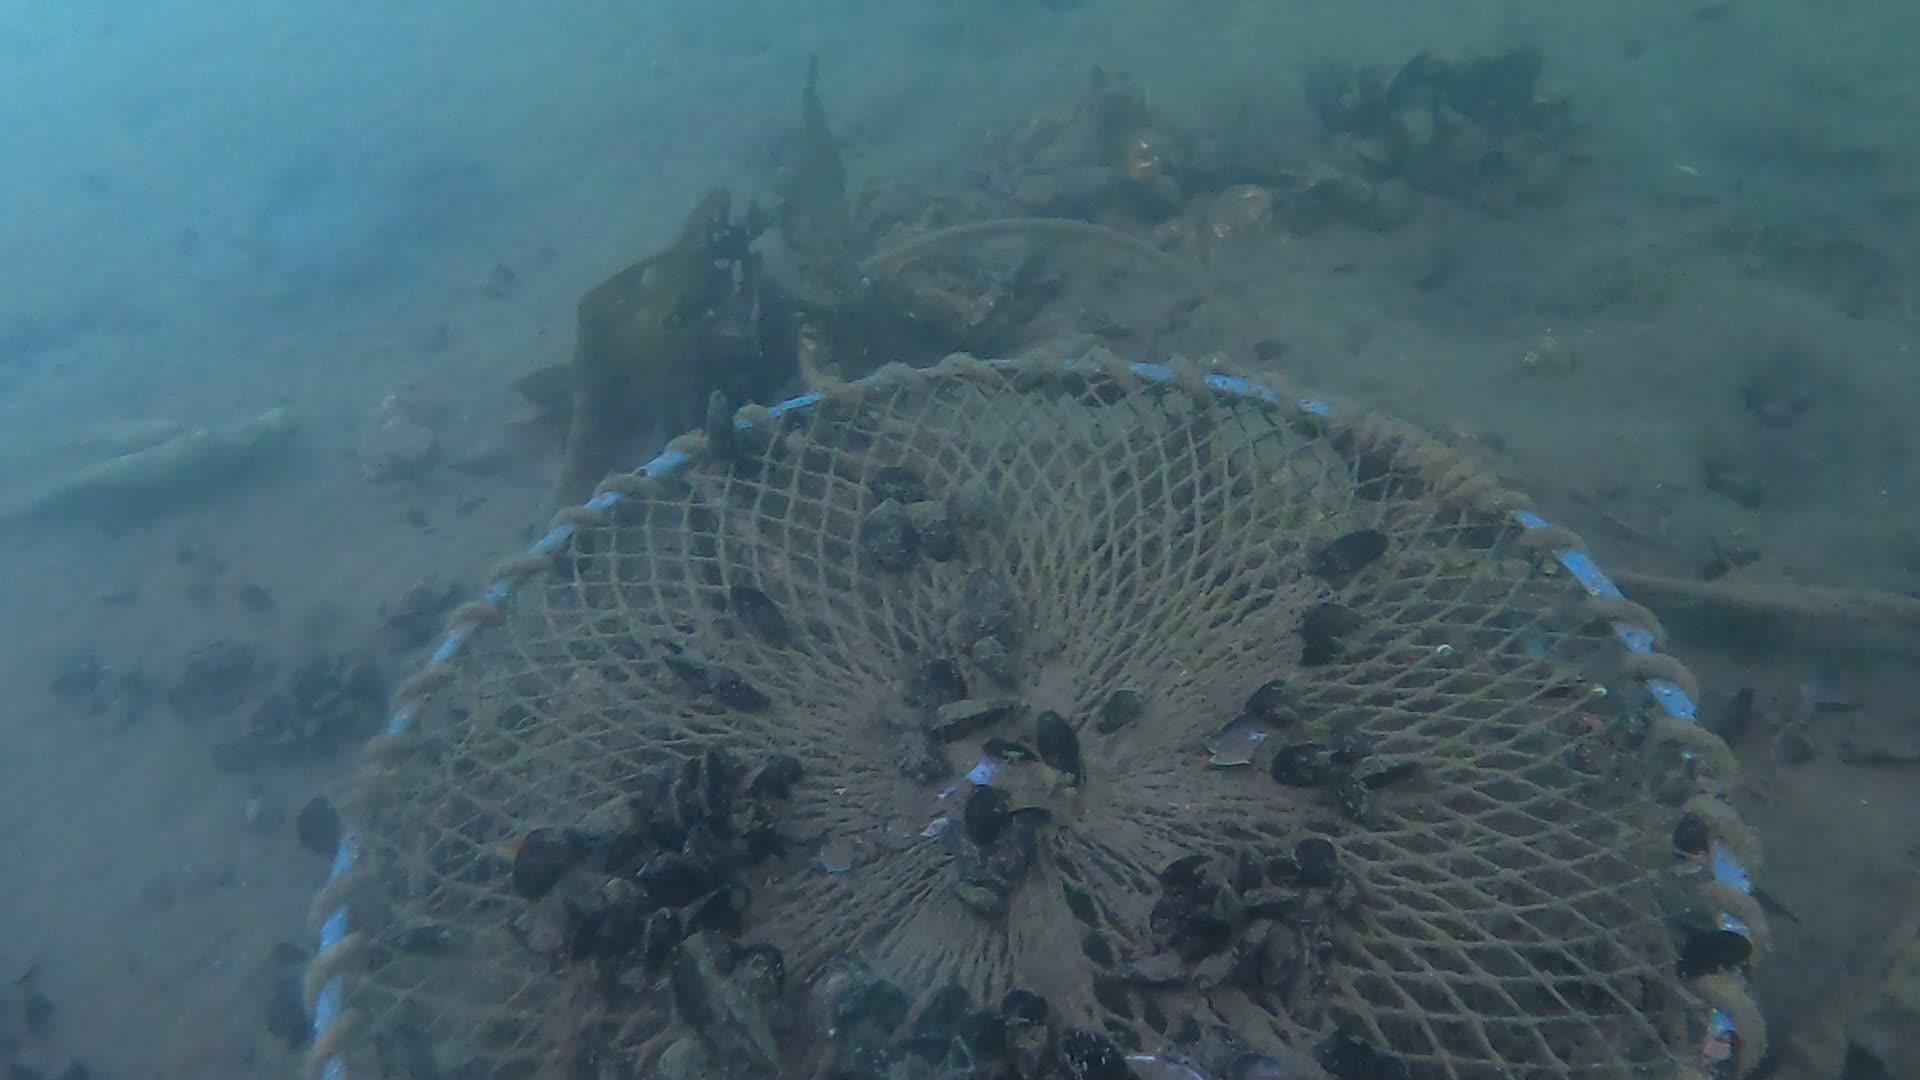circular fish trap: (284, 344, 1764, 1080)
